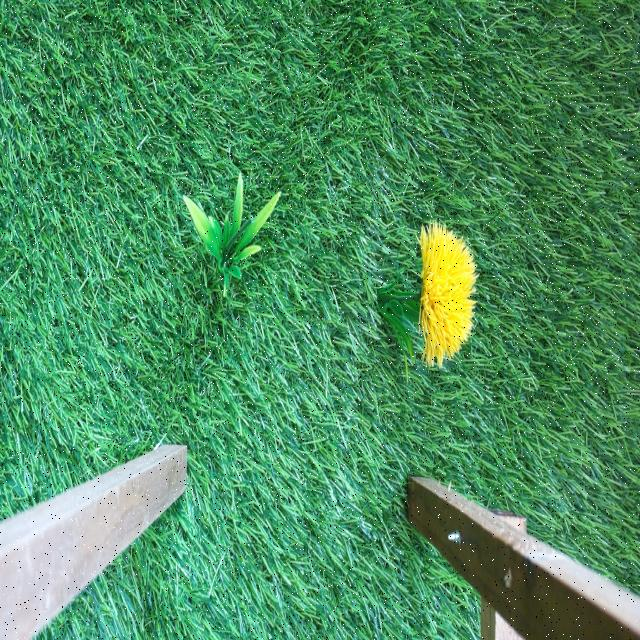base: (184, 175, 280, 294), (379, 281, 419, 363)
flower: (421, 222, 475, 368)
